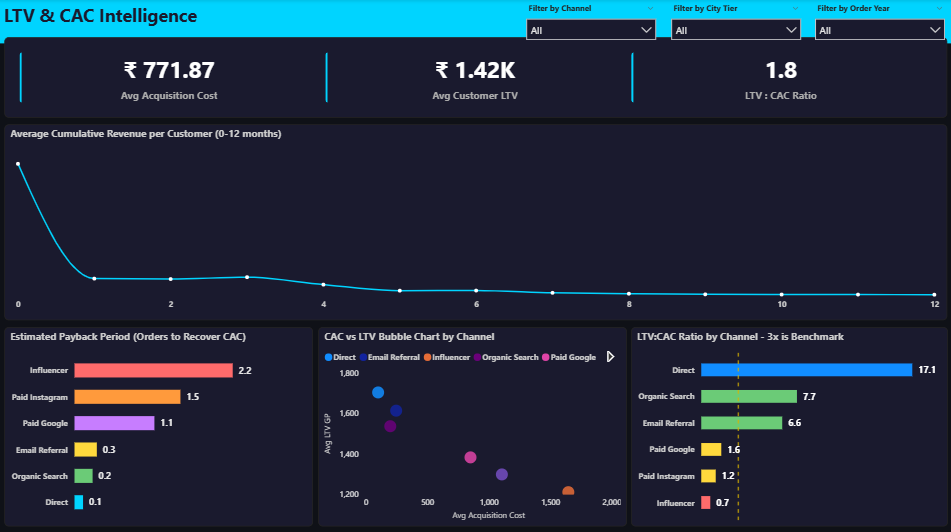

The dashboard page shown, as its layout file describes it:
{"tool":"powerbi","page":{"name":"LTV & CAC Intelligence","canvas":[1280,720],"ordinal":2},"visuals":[{"type":"textbox","box":[0,0,1279.4,60],"z":0},{"type":"cardVisual","fields":{"Data":["_Measures.Avg CAC","_Measures.Avg LTV","_Measures.LTV CAC Ratio"]},"box":[6,51.1,1267.4,108.2],"z":1000},{"type":"lineChart","title":"Average Cumulative Revenue per Customer (0-12 months)","fields":{"Category":["cohort_retention.months_since_acq"],"Y":["Avg(cohort_retention.cohort_revenue)"]},"box":[6,168.4,1267.4,263.1],"z":2000},{"type":"barChart","title":"Estimated Payback Period (Orders to Recover CAC)","fields":{"Category":["ltv_cac_by_channel.acquisition_channel"],"Y":["Avg(ltv_cac_by_channel.est_payback_orders)"]},"box":[6,440.5,415,268],"z":3000},{"type":"clusteredBarChart","title":"LTV:CAC Ratio by Channel - 3x is Benchmark","fields":{"Category":["ltv_cac_by_channel.acquisition_channel"],"Y":["Avg(ltv_cac_by_channel.ltv_cac_ratio)"]},"box":[847.9,440.5,425.5,267.6],"z":4000},{"type":"scatterChart","title":"CAC vs LTV Bubble Chart by Channel","fields":{"X":["ltv_cac_by_channel.avg_cac"],"Y":["ltv_cac_by_channel.avg_ltv_gp"],"Series":["ltv_cac_by_channel.acquisition_channel"],"Size":["Count(ltv_cac_by_channel.customers)"]},"box":[427,440.5,414.9,267.6],"z":5000},{"type":"slicer","fields":{"Values":["dim_channel.Channel"]},"box":[697.6,0,193.9,58.6],"z":6000},{"type":"slicer","fields":{"Values":["dim_date.Year"]},"box":[1085.5,0,193.9,57.1],"z":7000},{"type":"slicer","fields":{"Values":["dim_customers.city_tier"]},"box":[891.5,0,193.9,58.6],"z":8000}]}

Visuals, with their boxes in screenshot pixels (x1, y1, x2, y2), scaled from the page's 1280x720 canvas onto the 951x532 screenshot:
textbox: select_region(0, 0, 950, 44)
cardVisual - _Measures.Avg CAC x _Measures.Avg LTV: select_region(4, 38, 946, 118)
"Average Cumulative Revenue per Customer (0-12 months)" lineChart: select_region(4, 124, 946, 319)
"Estimated Payback Period (Orders to Recover CAC)" barChart: select_region(4, 325, 313, 524)
"LTV:CAC Ratio by Channel - 3x is Benchmark" clusteredBarChart: select_region(630, 325, 946, 523)
"CAC vs LTV Bubble Chart by Channel" scatterChart: select_region(317, 325, 626, 523)
slicer - dim_channel.Channel: select_region(518, 0, 662, 43)
slicer - dim_date.Year: select_region(806, 0, 950, 42)
slicer - dim_customers.city_tier: select_region(662, 0, 806, 43)
